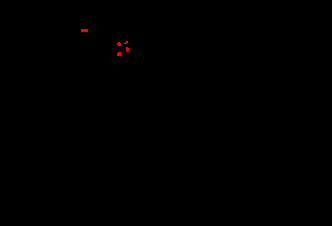Target: (81, 29, 88, 32), (117, 42, 121, 46), (117, 52, 121, 56), (126, 47, 129, 52), (124, 41, 128, 44)
